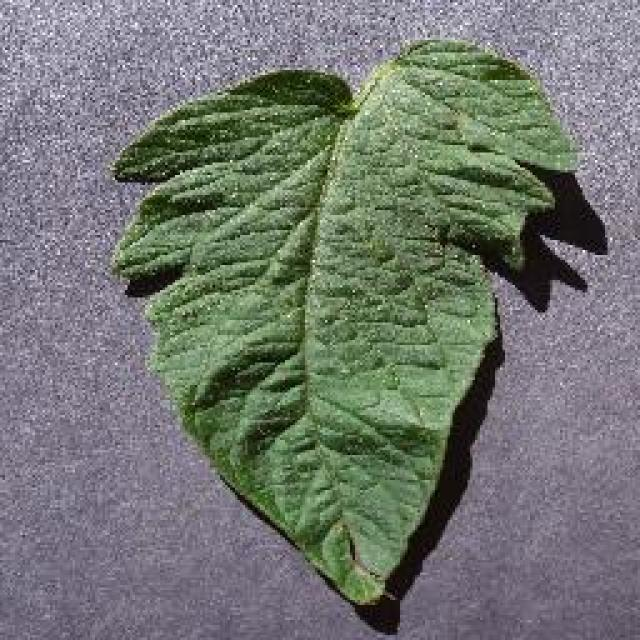Tomato___healthy: (107, 32, 592, 614)
